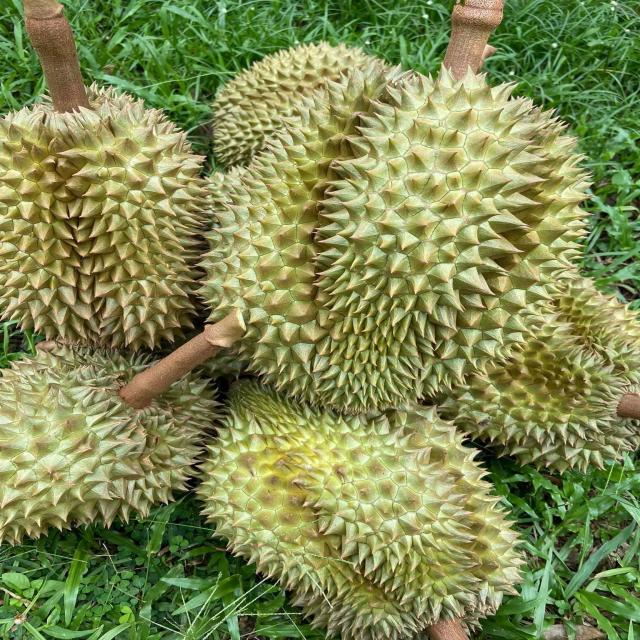immature: (182, 41, 593, 417)
